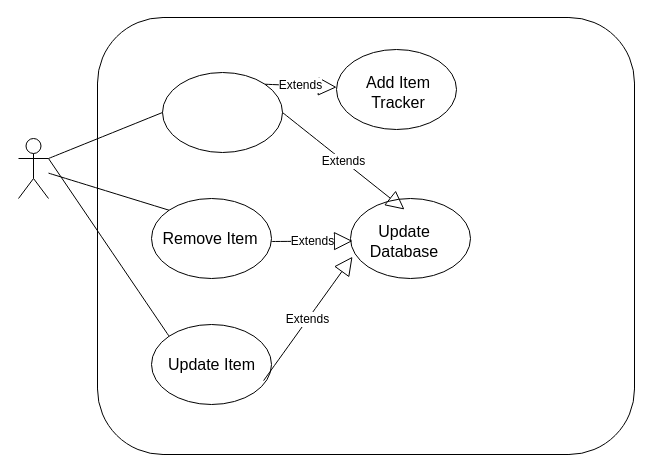
This 652x472 diagram has some shape labels left out. Each missing label, with the centre of its shape:
"Add Item" goes at (x=222, y=112).
"Staff" goes at (x=33, y=168).
